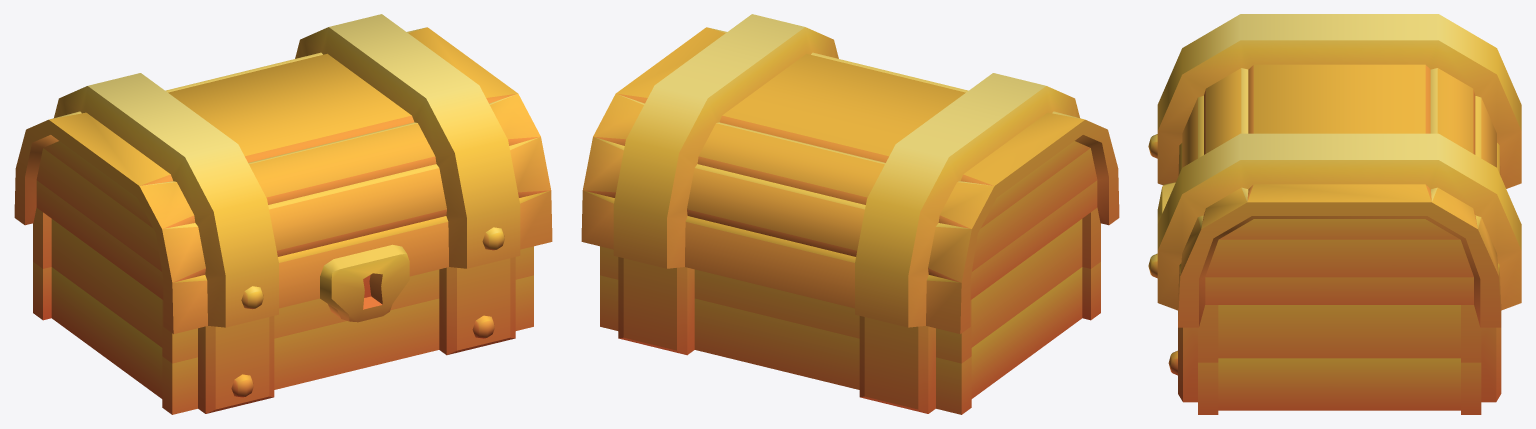
The model's file is chest_large_gold.glb.
The picture shows the model from 3 angles, left to right: view 1: azimuth 30°, elevation 25°; view 2: azimuth 150°, elevation 25°; view 3: azimuth 270°, elevation 25°; orthographic projection.
Parts seen in each view (by area): view 1: chest_large_gold_lid, chest_large_gold; view 2: chest_large_gold_lid, chest_large_gold; view 3: chest_large_gold_lid, chest_large_gold.
Part boxes in pixels (bbox=[...]): chest_large_gold_lid: bbox=[14, 14, 552, 334]; chest_large_gold: bbox=[33, 207, 533, 414]; chest_large_gold_lid: bbox=[581, 14, 1119, 334]; chest_large_gold: bbox=[600, 207, 1100, 414]; chest_large_gold_lid: bbox=[1148, 14, 1521, 327]; chest_large_gold: bbox=[1168, 305, 1501, 414].
Bounding box in the file's own units: 2.2 × 1.3 × 1.85.
Materials: 1 (1 with a texture image).
